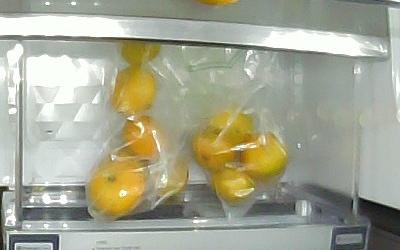tangerine_vinyl: (87, 155, 145, 217), (109, 65, 157, 117), (237, 135, 289, 183), (212, 163, 267, 206), (191, 128, 237, 170), (120, 118, 164, 158), (153, 158, 189, 198), (209, 109, 253, 139), (115, 40, 163, 67)
